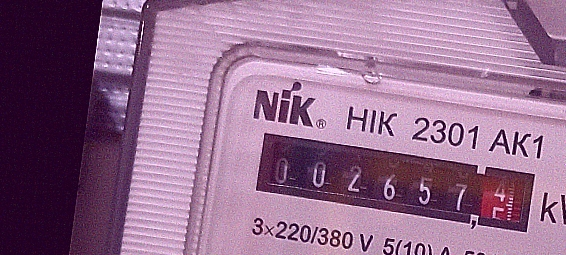0: (271, 154, 292, 184), (309, 157, 328, 189)
2: (345, 162, 364, 193)
4: (491, 175, 509, 202)
5: (415, 174, 435, 206), (489, 204, 506, 220)
6: (380, 170, 398, 201)
7: (451, 179, 469, 212)
screen: (244, 120, 548, 244)
